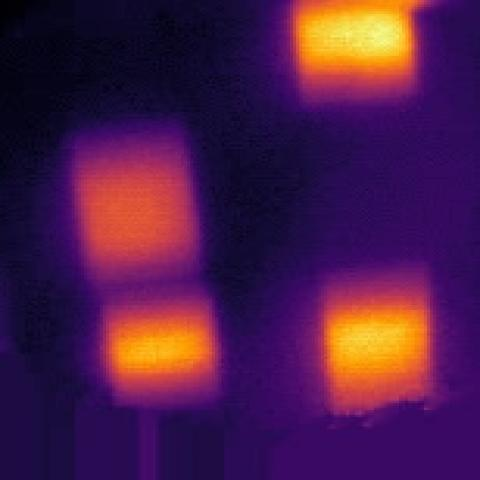fault: (59, 135, 210, 286), (314, 276, 441, 407), (284, 0, 424, 100), (89, 304, 218, 402)
